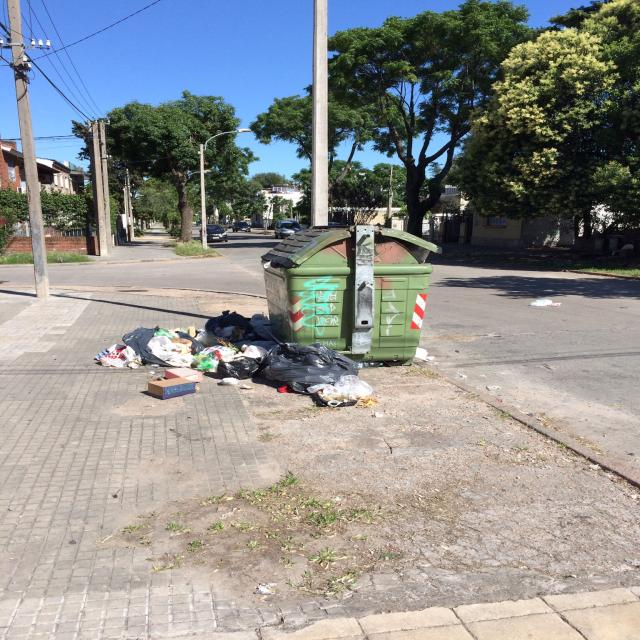garbage: (90, 308, 282, 406), (250, 332, 370, 404)
